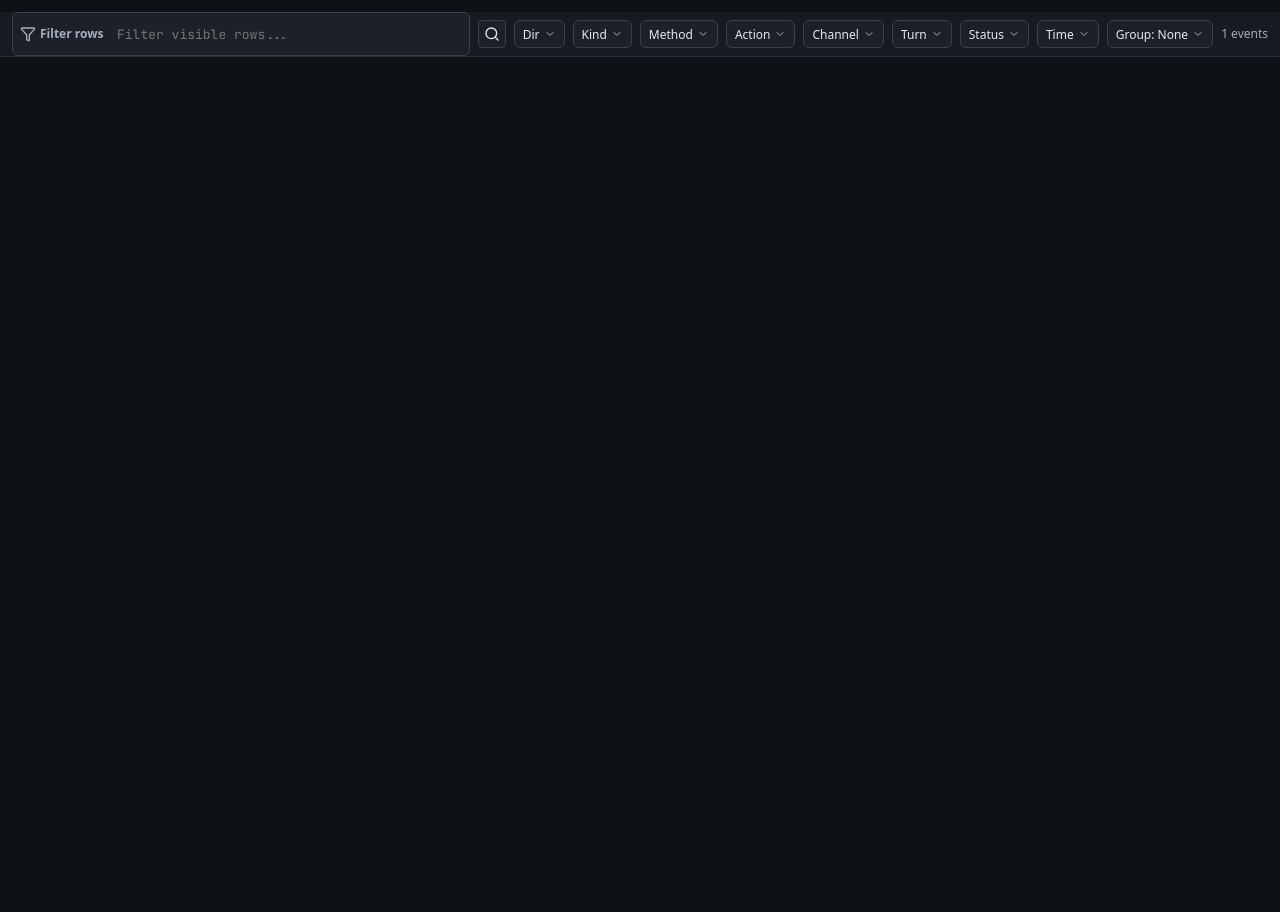
Test case: FilterBar › closes a facet popover on outside mousedown without a Close command
Click the button "Method". click: (679, 34)
box: [640, 20, 718, 48]
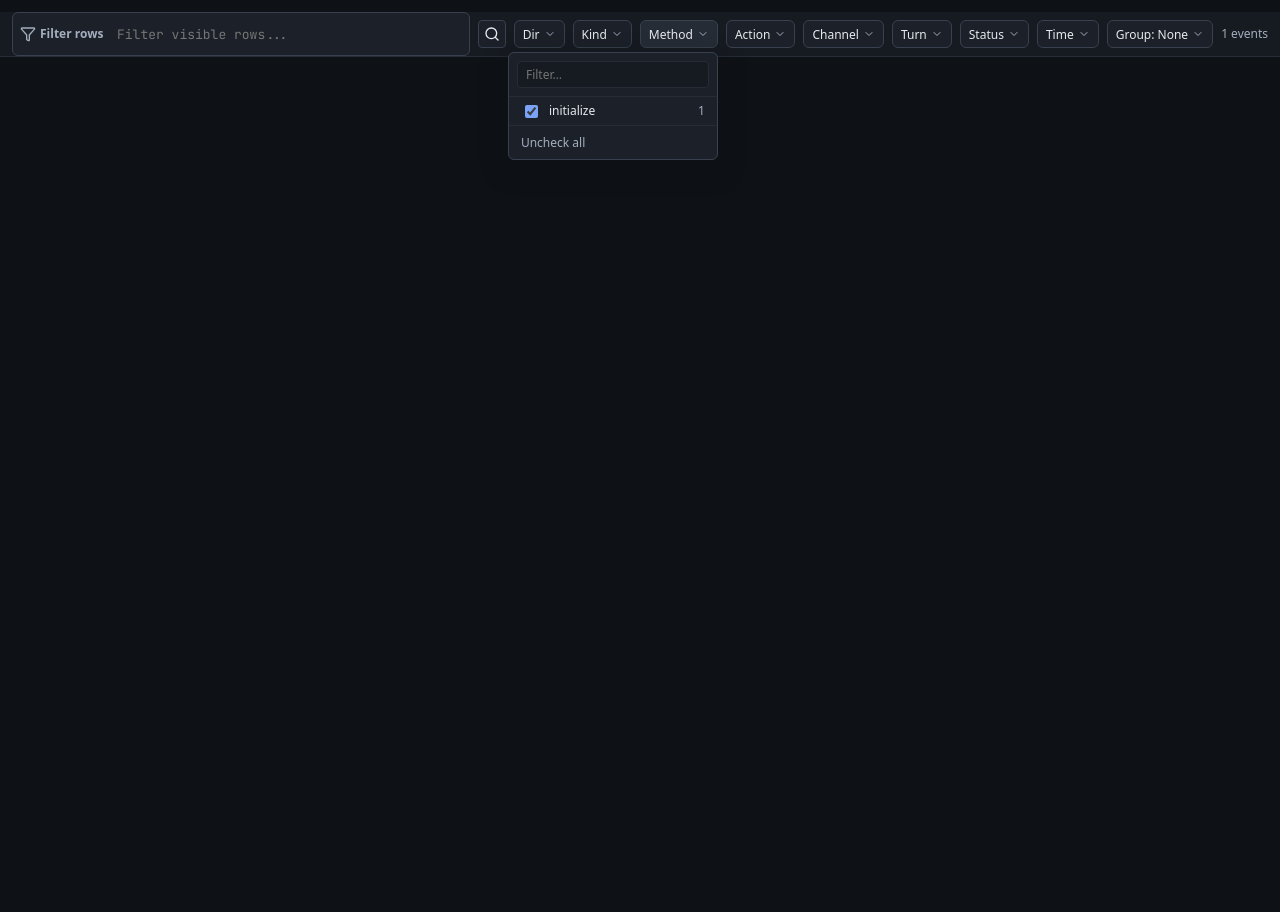
Press the mouse on the element that starts with "Filter rows" at (640, 462), box [0, 12, 1279, 911]
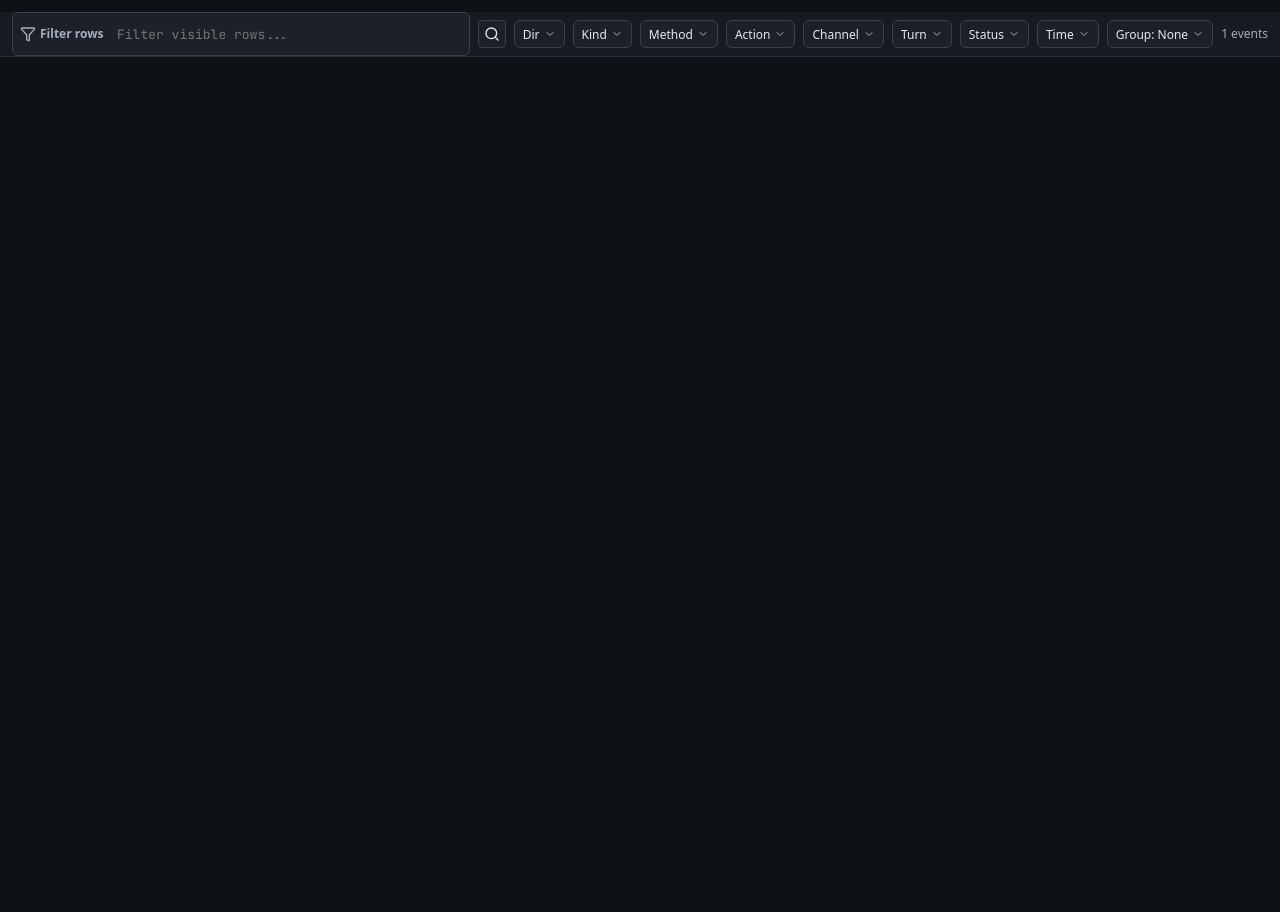
Expected: the list is gone
